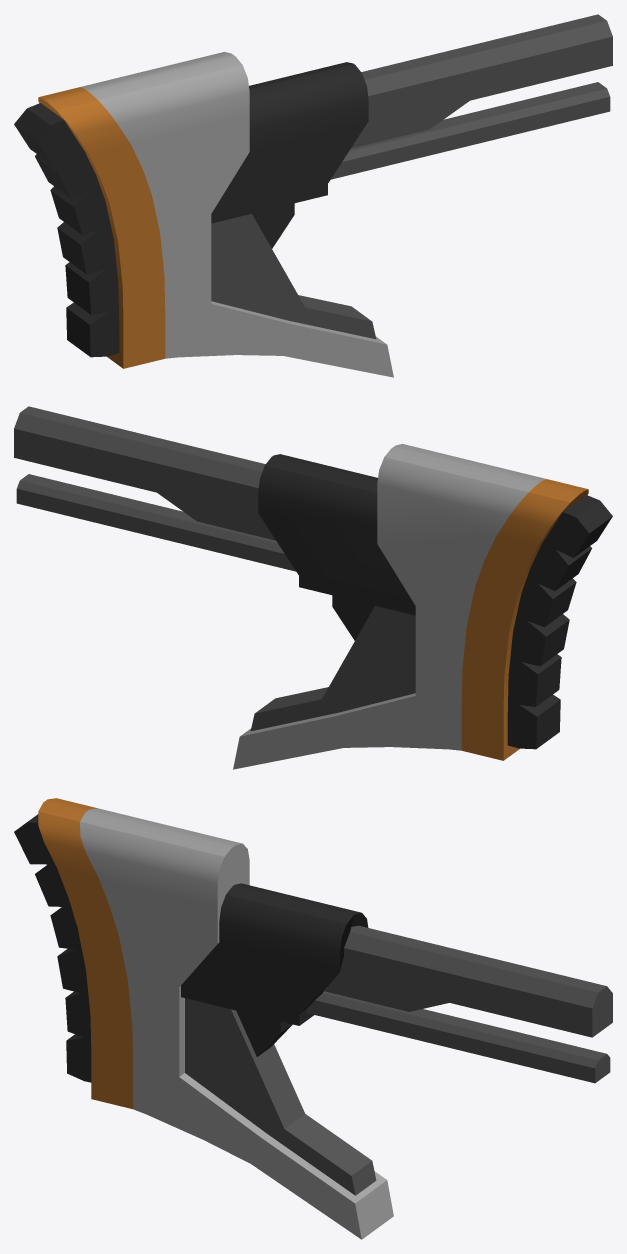
Rendered from quaternius-modular-sci-fi-guns-stock-ar-1.glb.
3 views of the same model, one above another, from view 1: azimuth 30°, elevation 25°; view 2: azimuth 150°, elevation 25°; view 3: azimuth 330°, elevation 25° (orthographic).
Parts seen in each view (by area): view 1: Stock_AR_1; view 2: Stock_AR_1; view 3: Stock_AR_1.
Part boxes in pixels (x1,y1,x2,y2): Stock_AR_1: [14, 14, 612, 377]; Stock_AR_1: [14, 406, 612, 769]; Stock_AR_1: [14, 798, 612, 1239].
Bounding box in the file's own units: 0.7725 × 0.4427 × 0.0746.
